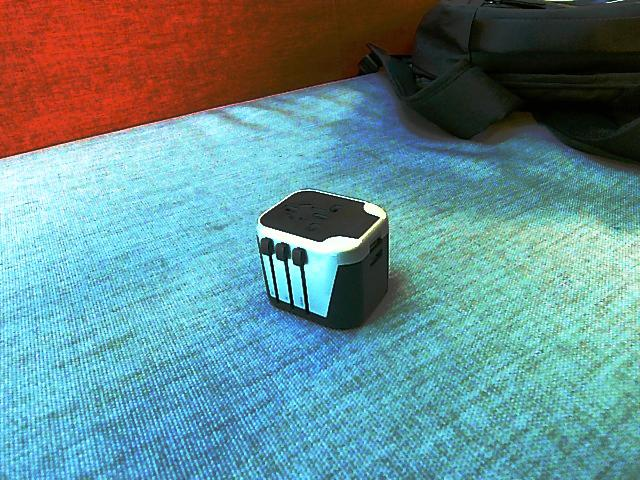adapter: (255, 188, 390, 330)
